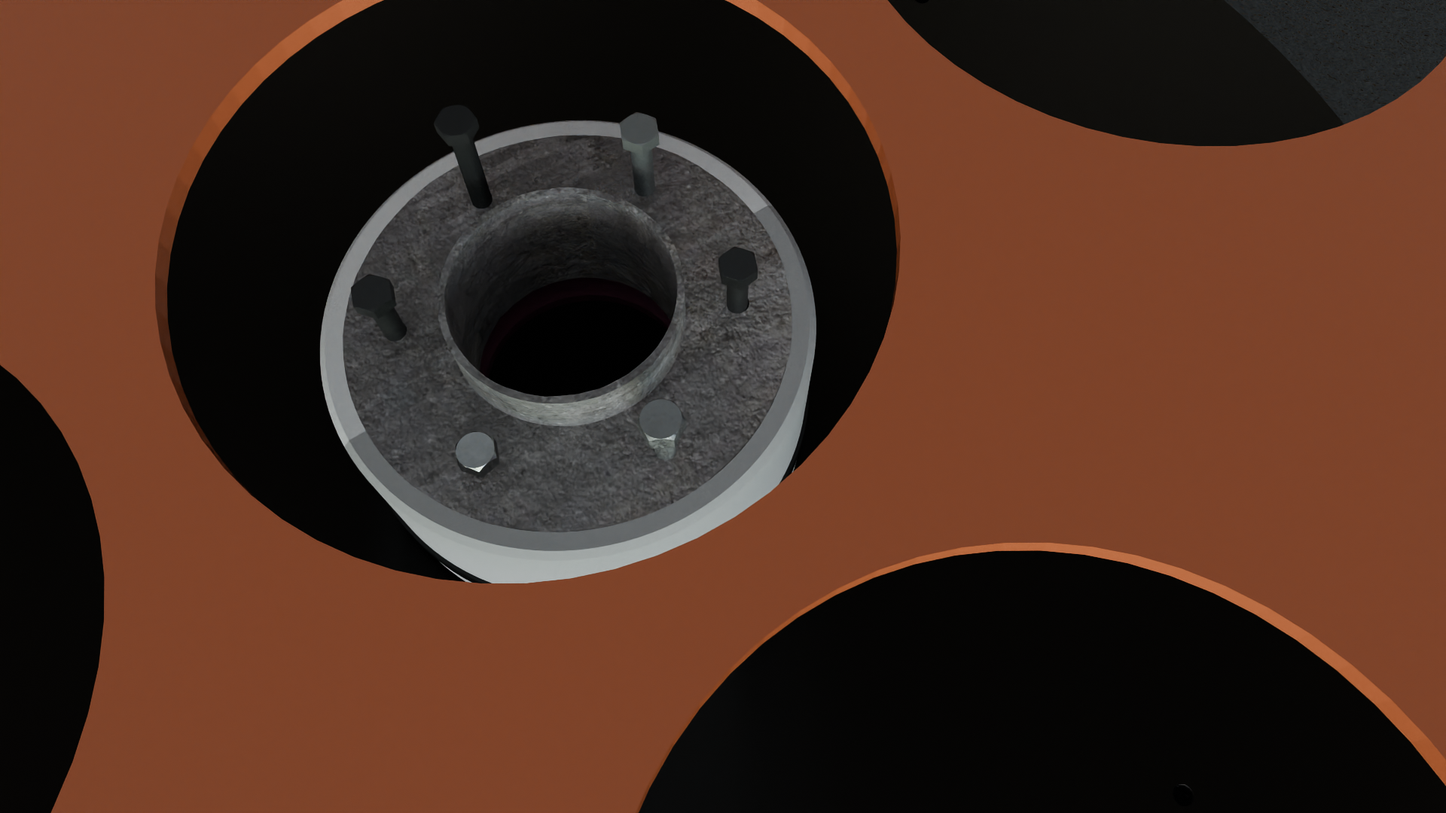bolt: (636, 399, 686, 441), (456, 431, 496, 472), (351, 274, 392, 312), (718, 247, 758, 283), (434, 105, 477, 137), (620, 112, 659, 147)
